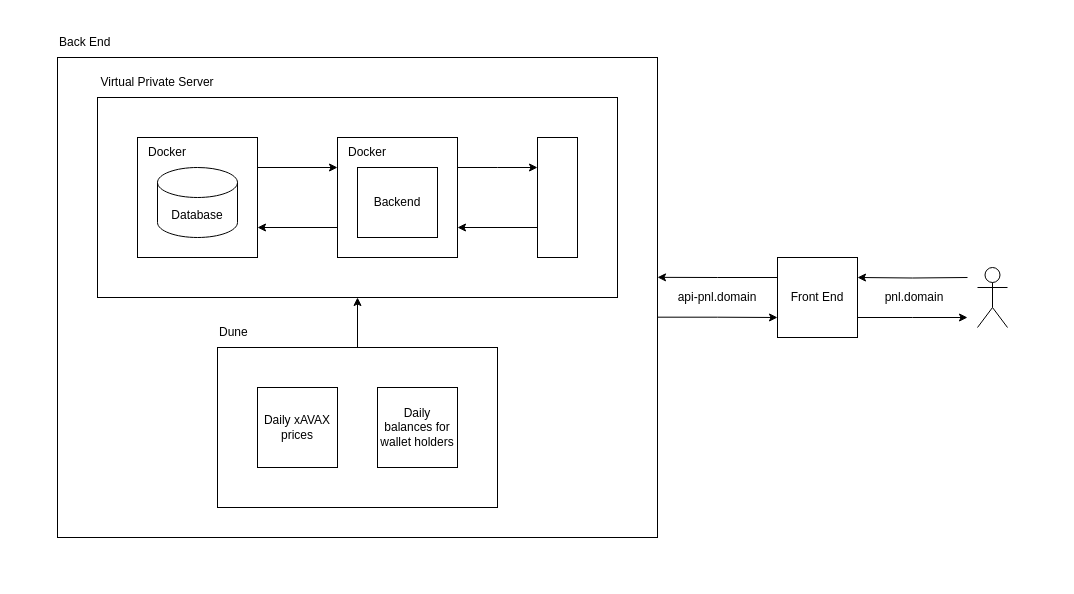
This 1074x594 diagram has some shape labels left out. Each missing label, with the centre of its shape:
"Reverse Proxy" goes at (557,197).
"User" goes at (992,297).
